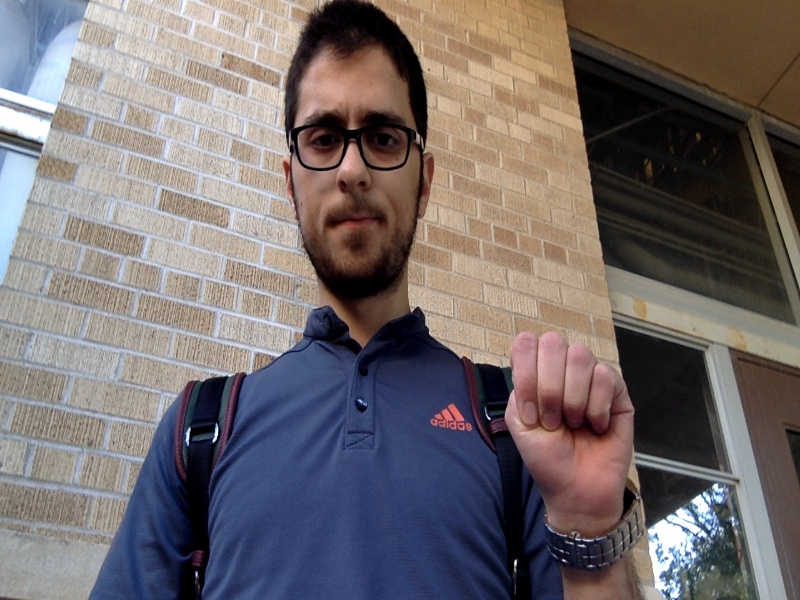0-hand: (507, 332, 635, 515)
